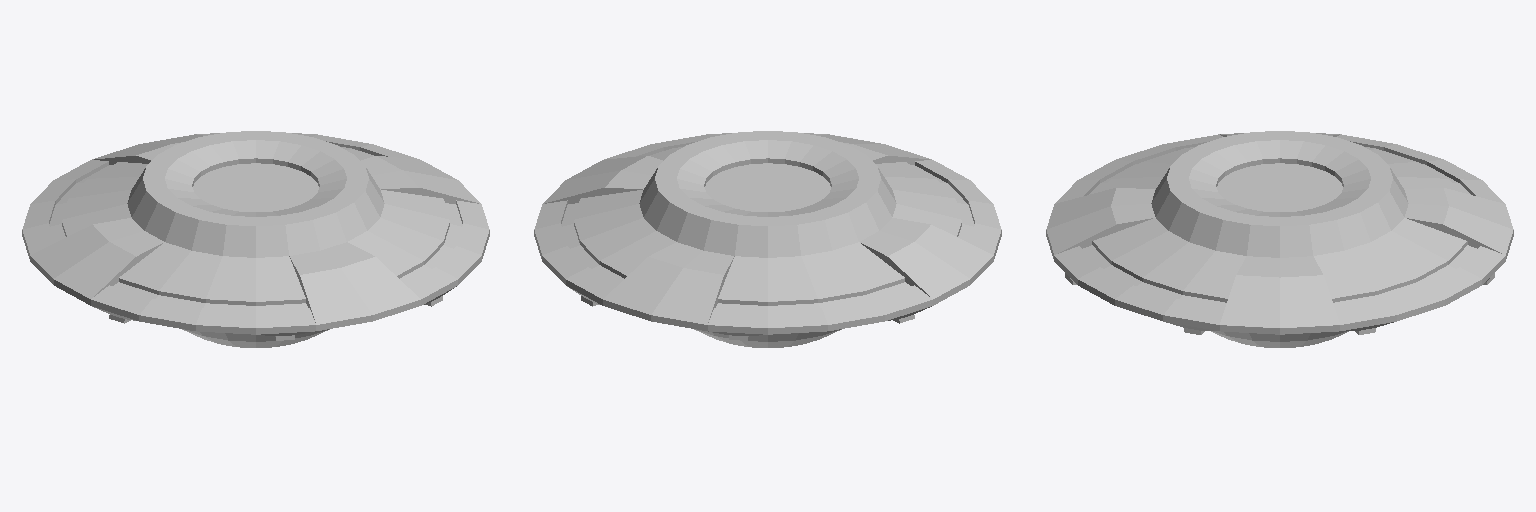
Rendered from ufo.obj.
3 renders of one model, left to right at view 1: azimuth 30°, elevation 25°; view 2: azimuth 150°, elevation 25°; view 3: azimuth 270°, elevation 25°, orthographic.
Parts seen in each view (by area): view 1: Sphere; view 2: Sphere; view 3: Sphere.
Part boxes in pixels (x1,y1,x2,y2): Sphere: (22, 131, 489, 347); Sphere: (534, 131, 1001, 347); Sphere: (1046, 131, 1513, 347).
Size of the model in its own units: 3.4 by 1.24 by 3.4.